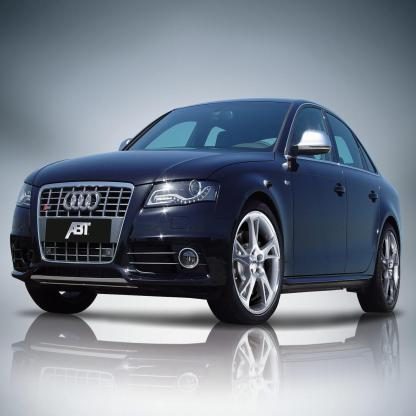Vehicle: (12, 98, 403, 327)
